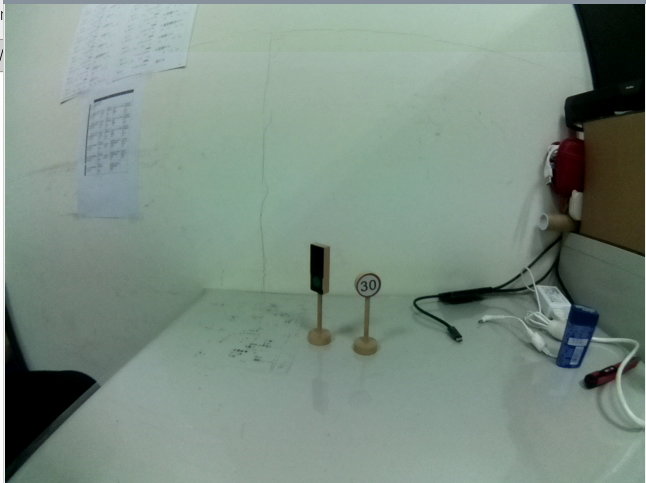Green: (305, 241, 335, 298)
Speed30: (353, 269, 384, 299)
